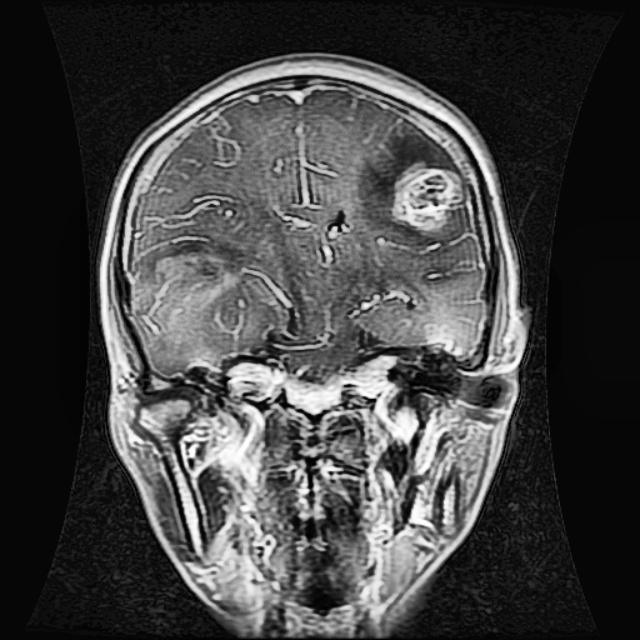Meningioma: (354, 125, 460, 232)
